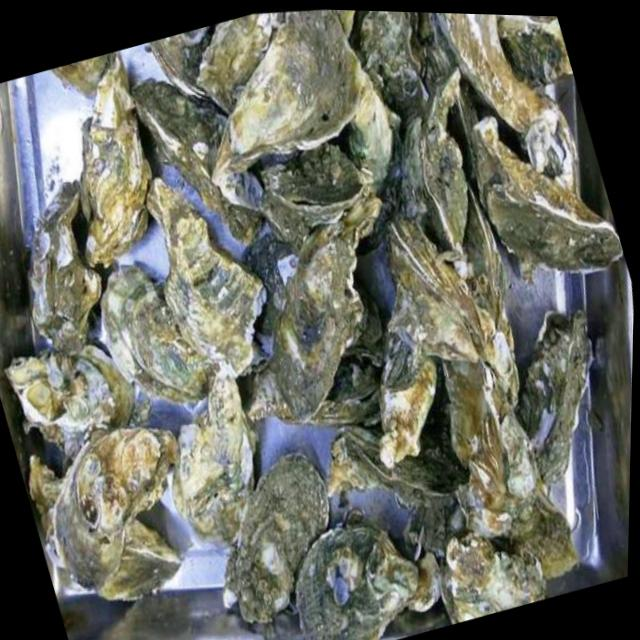Oyster-Closed: (406, 120, 471, 249), (44, 49, 128, 97)
Oyster-Indeterminate: (223, 226, 388, 438), (128, 170, 281, 394), (174, 444, 358, 623), (15, 415, 201, 585), (490, 298, 634, 495), (128, 55, 273, 244), (132, 363, 292, 534), (261, 500, 446, 640), (466, 117, 622, 283), (326, 297, 471, 473), (422, 322, 553, 516), (0, 314, 172, 459), (79, 249, 219, 413), (0, 186, 125, 354), (368, 200, 502, 355), (231, 12, 356, 157), (204, 213, 328, 359), (345, 404, 474, 530), (436, 13, 555, 136), (433, 511, 559, 625), (79, 69, 150, 261), (509, 476, 599, 587), (195, 13, 290, 113), (349, 11, 433, 113), (146, 24, 223, 125), (346, 50, 401, 188), (504, 98, 579, 191), (424, 72, 500, 144), (498, 15, 568, 88)
Oyster-Open: (270, 353, 401, 438), (269, 143, 362, 229)
